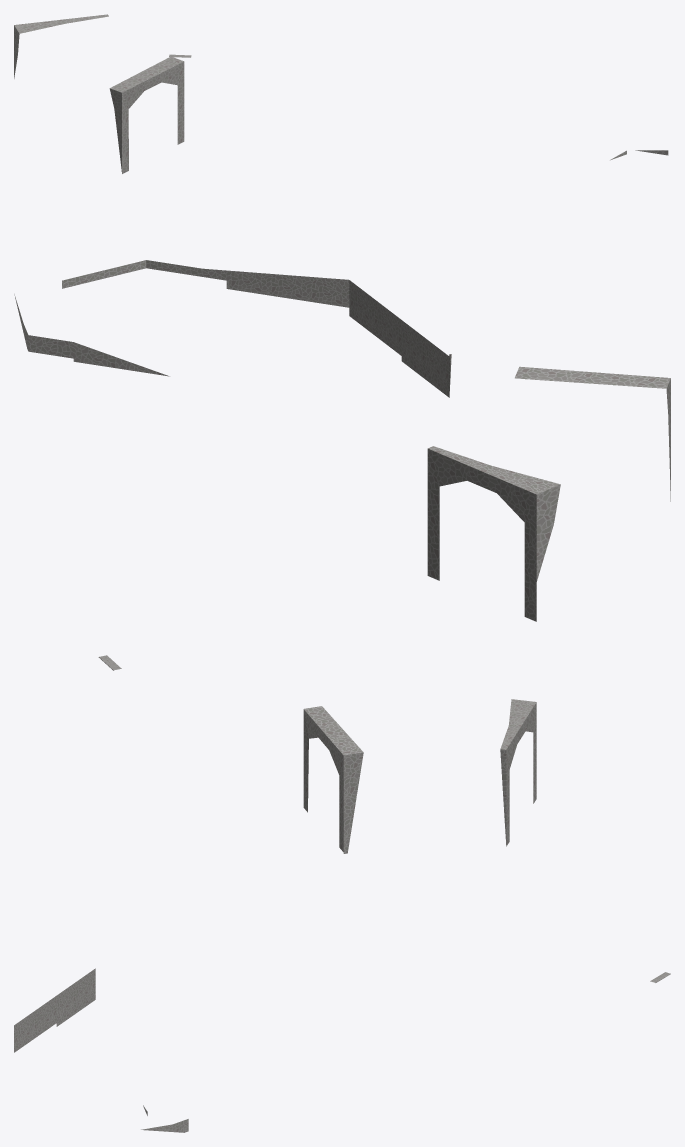
File: kd_stage_136282_5_21.glb
3 renders of one model, top to bottom at view 1: azimuth 30°, elevation 25°; view 2: azimuth 150°, elevation 25°; view 3: azimuth 270°, elevation 25°, orthographic. The views are drawn at different scales.
Parts seen in each view (by area): view 1: kd_stage_136282_5_21; view 2: kd_stage_136282_5_21; view 3: kd_stage_136282_5_21.
Boxes of the visible parts, bbox=[...] form: kd_stage_136282_5_21: bbox=[14, 14, 668, 173]; kd_stage_136282_5_21: bbox=[14, 260, 670, 670]; kd_stage_136282_5_21: bbox=[14, 699, 670, 1132].
Bounding box in the file's own units: 79.91 × 20 × 75.46.
Materials: 1 (1 with a texture image).
